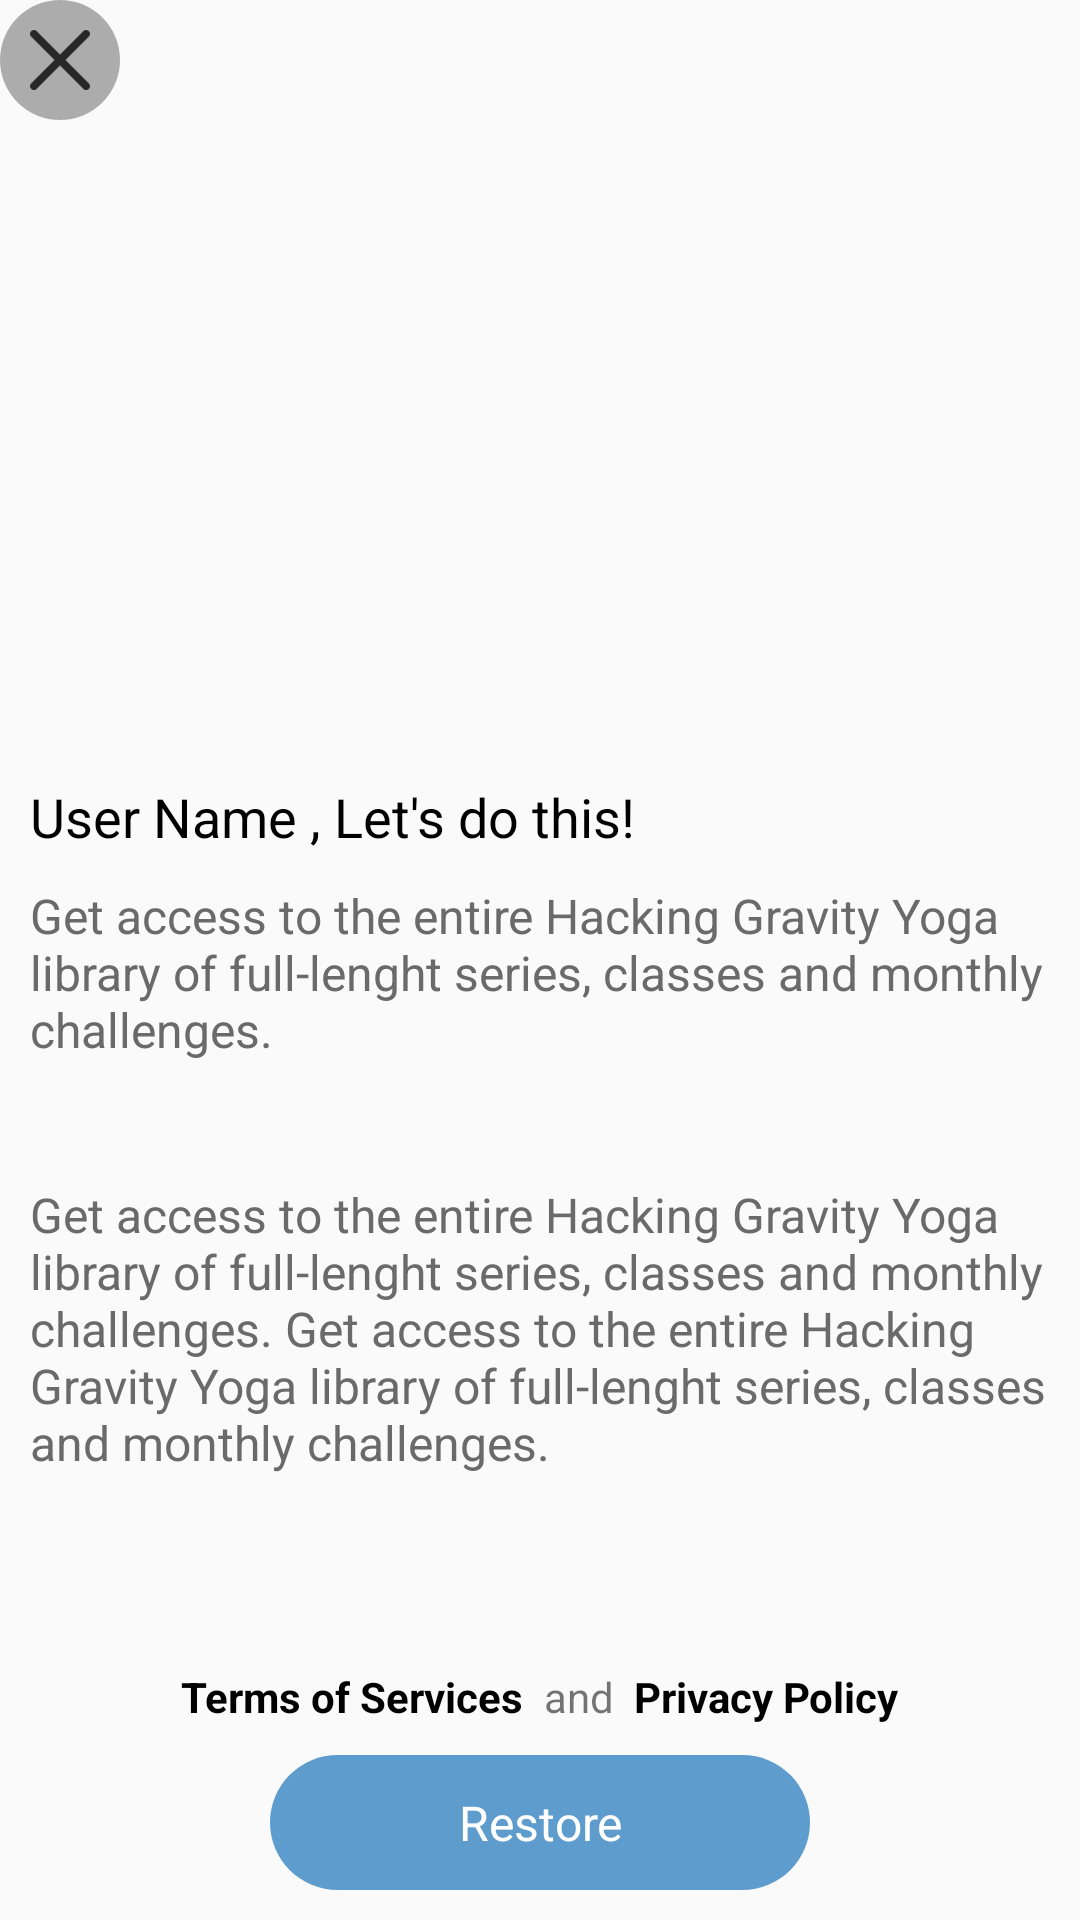

Point at icon controls on the screen. Image size 1080 × 1920, points as (x,y).
close: (60,60)
